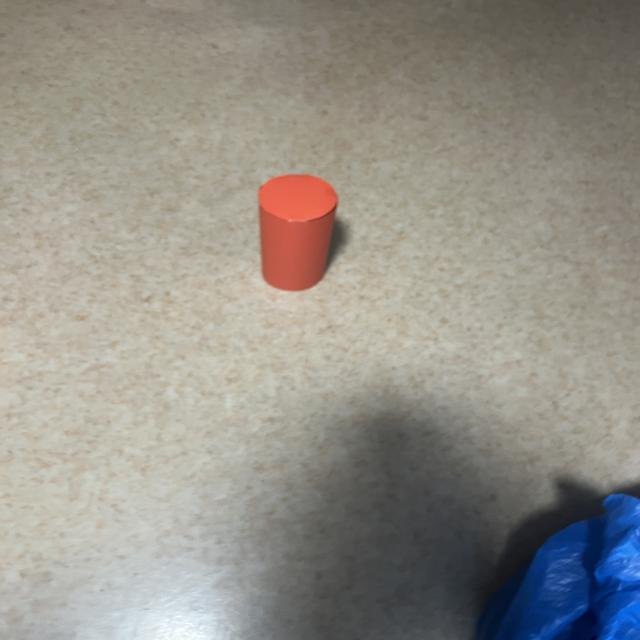przeszkoda: (258, 174, 338, 291)
